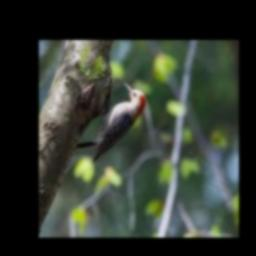Woodpecker: (75, 81, 145, 162)
